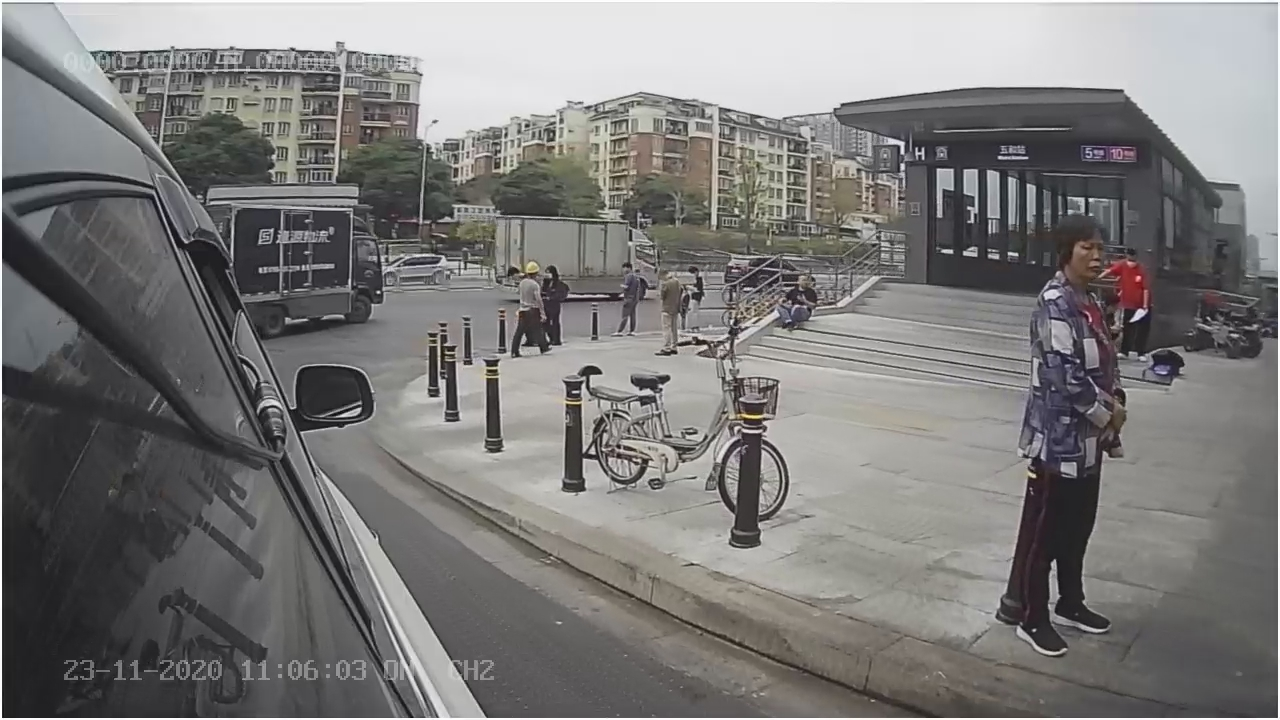person: (1011, 211, 1119, 663)
